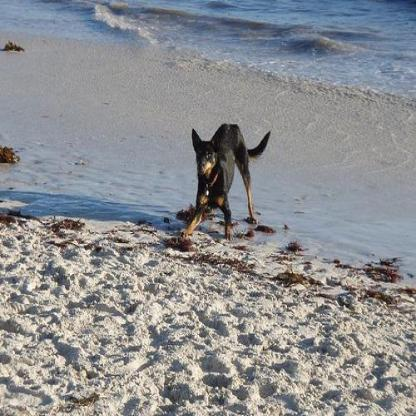kelpie: (180, 121, 270, 242)
